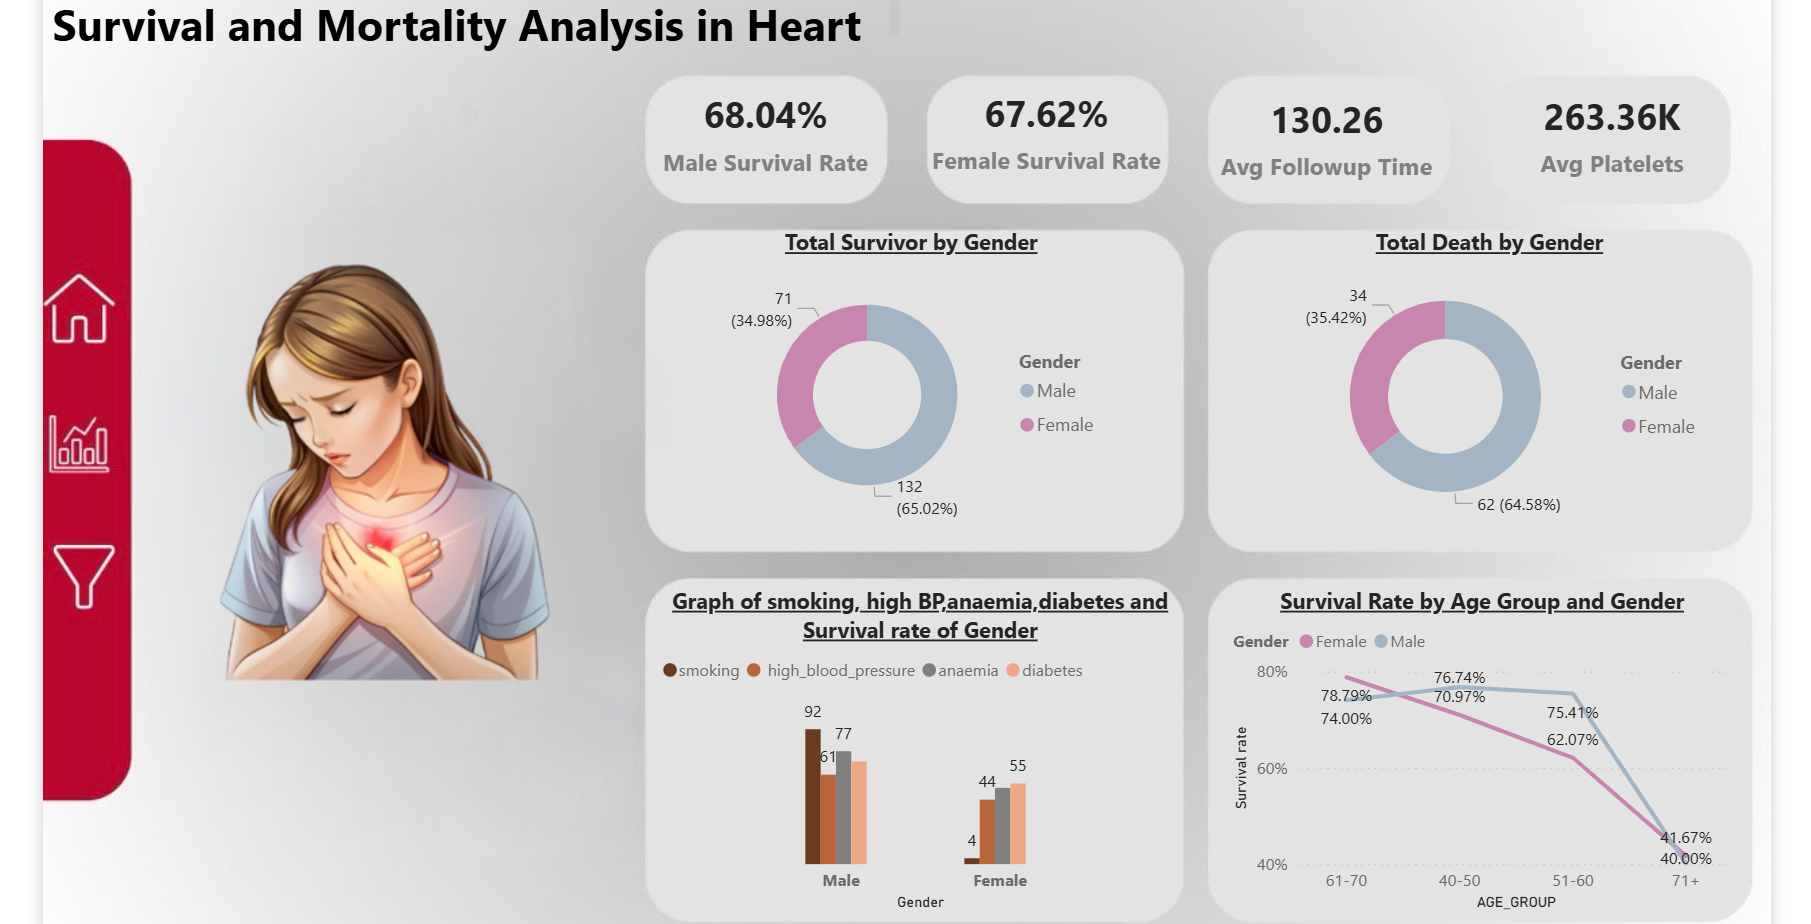

The page's visual inventory and layout, read from the dashboard file:
{"tool":"powerbi","page":{"name":"Analysis","canvas":[1280,720],"ordinal":1},"visuals":[{"type":"clusteredColumnChart","title":"Graph of smoking,  high BP,anaemia,diabetes and Survival rate of Gender","fields":{"Category":["heart_Disease_clinical_records_.Gender"],"Y":["Sum(heart_Disease_clinical_records_.smoking)","Sum(heart_Disease_clinical_records_.high_blood_pressure)","Sum(heart_Disease_clinical_records_.anaemia)","Sum(heart_Disease_clinical_records_.diabetes)"]},"box":[453.7,447.6,392.9,245.1],"z":0},{"type":"donutChart","fields":{"Category":["heart_Disease_clinical_records_.Gender"],"Y":["heart_Disease_clinical_records_.Tot_Surviour"]},"box":[492.2,182.3,301.8,226.8],"z":1000},{"type":"donutChart","title":"Total Death by Gender","fields":{"Category":["heart_Disease_clinical_records_.Gender"],"Y":["heart_Disease_clinical_records_.Tot_death"]},"box":[903.3,182.3,336.2,228.9],"z":2000},{"type":"lineChart","title":"Survival Rate by Age Group and Gender","fields":{"Category":["heart_Disease_clinical_records_.AGE_GROUP"],"Y":["heart_Disease_clinical_records_.Survival_rate"],"Series":["heart_Disease_clinical_records_.Gender"]},"box":[877,447.6,378.7,245.1],"z":3000},{"type":"card","fields":{"Values":["heart_Disease_clinical_records_.Fem Survival Rate"]},"box":[639.2,65.1,208.2,89.5],"z":4000},{"type":"card","fields":{"Values":["heart_Disease_clinical_records_.Male Survival Rate"]},"box":[442.4,65.1,185.4,91.1],"z":5000},{"type":"card","fields":{"Values":["heart_Disease_clinical_records_.Avg Platelets"]},"box":[1067.3,66.8,188.4,91.1],"z":6000},{"type":"card","fields":{"Values":["heart_Disease_clinical_records_.Avg Followup Time"]},"box":[862.8,48.6,174.2,131.6],"z":7000},{"type":"pageNavigator","box":[0,180.3,68.9,346.3],"z":8000},{"type":"image","box":[68.9,99.2,372.7,522.5],"z":9000},{"type":"textbox","box":[2,4.1,638,60.8],"z":10000}]}

Visuals, with their boxes on the page's 1280x720 design canvas (x1, y1, x2, y2). These are canvas units, not pixel positions in the 1811x924 screenshot, which may show the page scaled, cropped or inside an application window:
"Graph of smoking,  high BP,anaemia,diabetes and Survival rate of Gender" clusteredColumnChart: region(454, 448, 847, 693)
donutChart - heart_Disease_clinical_records_.Gender x heart_Disease_clinical_records_.Tot_Surviour: region(492, 182, 794, 409)
"Total Death by Gender" donutChart: region(903, 182, 1240, 411)
"Survival Rate by Age Group and Gender" lineChart: region(877, 448, 1256, 693)
card - heart_Disease_clinical_records_.Fem Survival Rate: region(639, 65, 847, 155)
card - heart_Disease_clinical_records_.Male Survival Rate: region(442, 65, 628, 156)
card - heart_Disease_clinical_records_.Avg Platelets: region(1067, 67, 1256, 158)
card - heart_Disease_clinical_records_.Avg Followup Time: region(863, 49, 1037, 180)
pageNavigator: region(0, 180, 69, 527)
image: region(69, 99, 442, 622)
textbox: region(2, 4, 640, 65)
